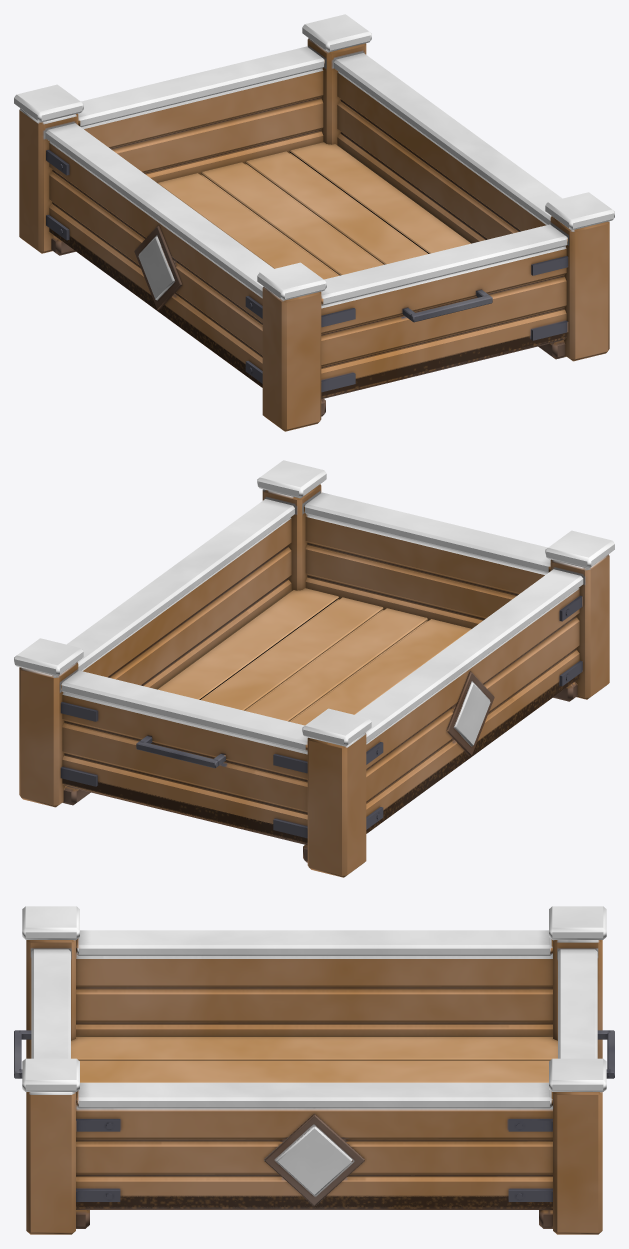
Rendered from BacObjets_Rig.fbx.
3 views of the same model, one above another, from view 1: azimuth 30°, elevation 25°; view 2: azimuth 150°, elevation 25°; view 3: azimuth 270°, elevation 25° (orthographic). The views are drawn at different scales.
Parts seen in each view (by area): view 1: Bin, Trim; view 2: Bin, Trim; view 3: Bin, Trim.
Boxes of the visible parts, x1,y1,x2,y2 form: Bin: [19, 38, 609, 431]; Trim: [14, 14, 614, 305]; Bin: [19, 484, 609, 877]; Trim: [14, 460, 614, 751]; Bin: [14, 940, 614, 1234]; Trim: [22, 906, 606, 1195].
Bounding box in the file's own units: 14.5 × 6 × 20.85.
1 material, 1 textured.
